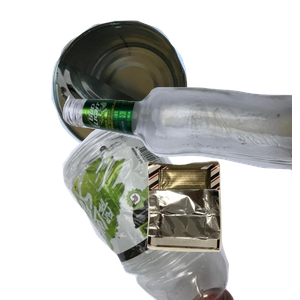glass: (60, 84, 300, 260)
metal: (49, 18, 229, 164)
plastic: (25, 120, 252, 300)
trash: (144, 158, 300, 300)
